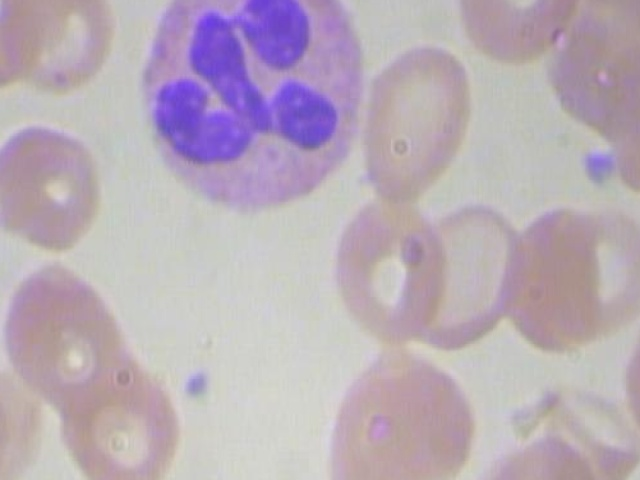Platelets: (573, 140, 620, 197), (177, 361, 219, 410)
RBC: (355, 37, 485, 211), (0, 258, 135, 418), (46, 339, 184, 480), (327, 181, 446, 344), (490, 200, 609, 352), (0, 108, 105, 260), (0, 0, 117, 96), (453, 0, 577, 65), (455, 424, 598, 480), (0, 0, 41, 96), (0, 376, 13, 480)
WBC: (135, 0, 385, 229)
